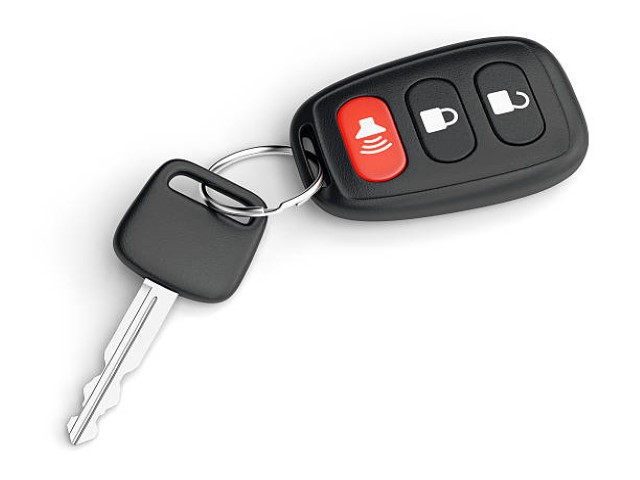key: (68, 158, 270, 270)
